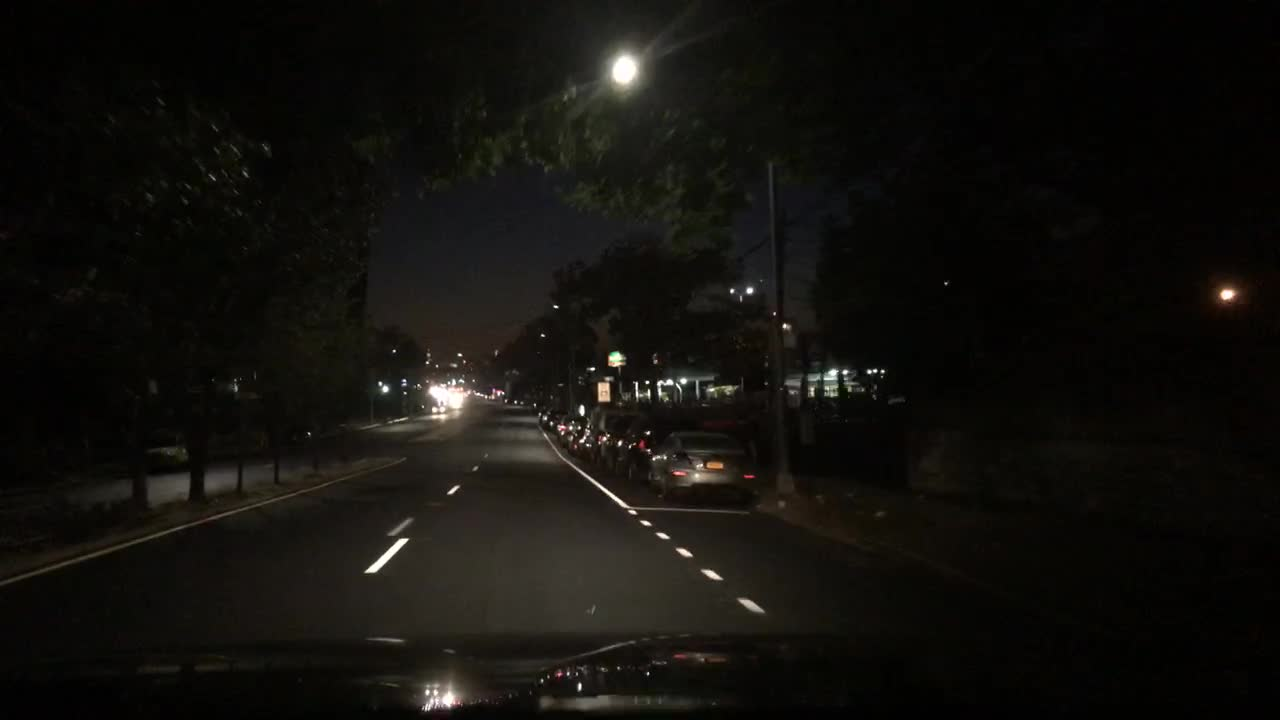car: (639, 428, 759, 504), (611, 408, 692, 481), (595, 408, 646, 476), (143, 428, 189, 471), (587, 412, 619, 462), (563, 417, 597, 449), (552, 417, 580, 442), (536, 407, 560, 423), (548, 415, 563, 435), (535, 405, 546, 418)
traffic sign: (595, 380, 609, 401), (604, 354, 625, 366)
